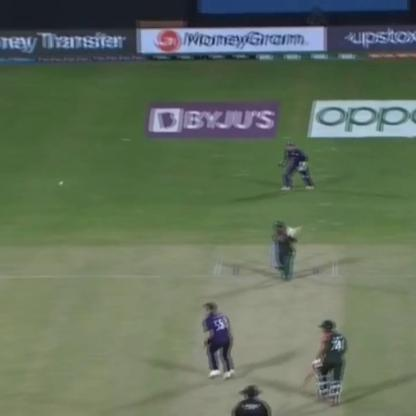ball: (49, 175, 73, 193)
pitch: (183, 244, 351, 415)
